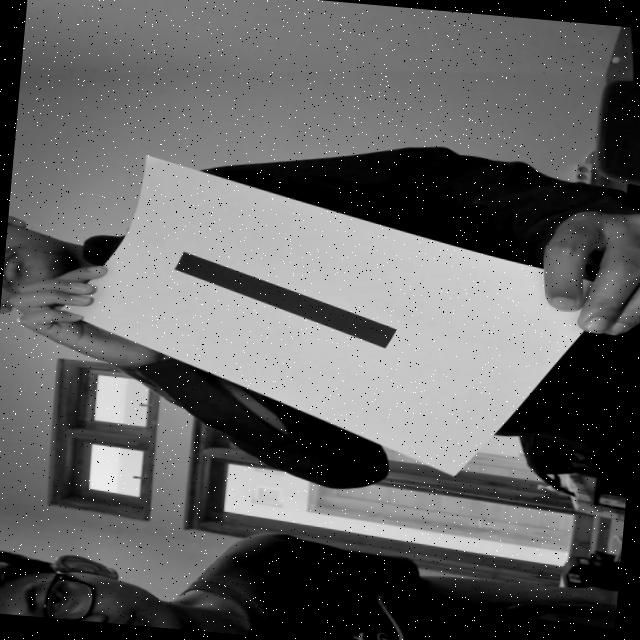i: (144, 238, 430, 357)
